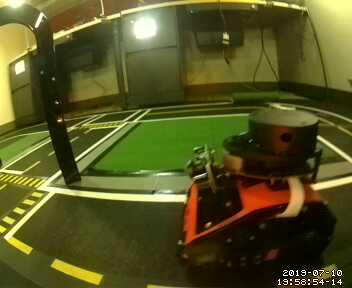pheeno: (183, 104, 339, 266)
